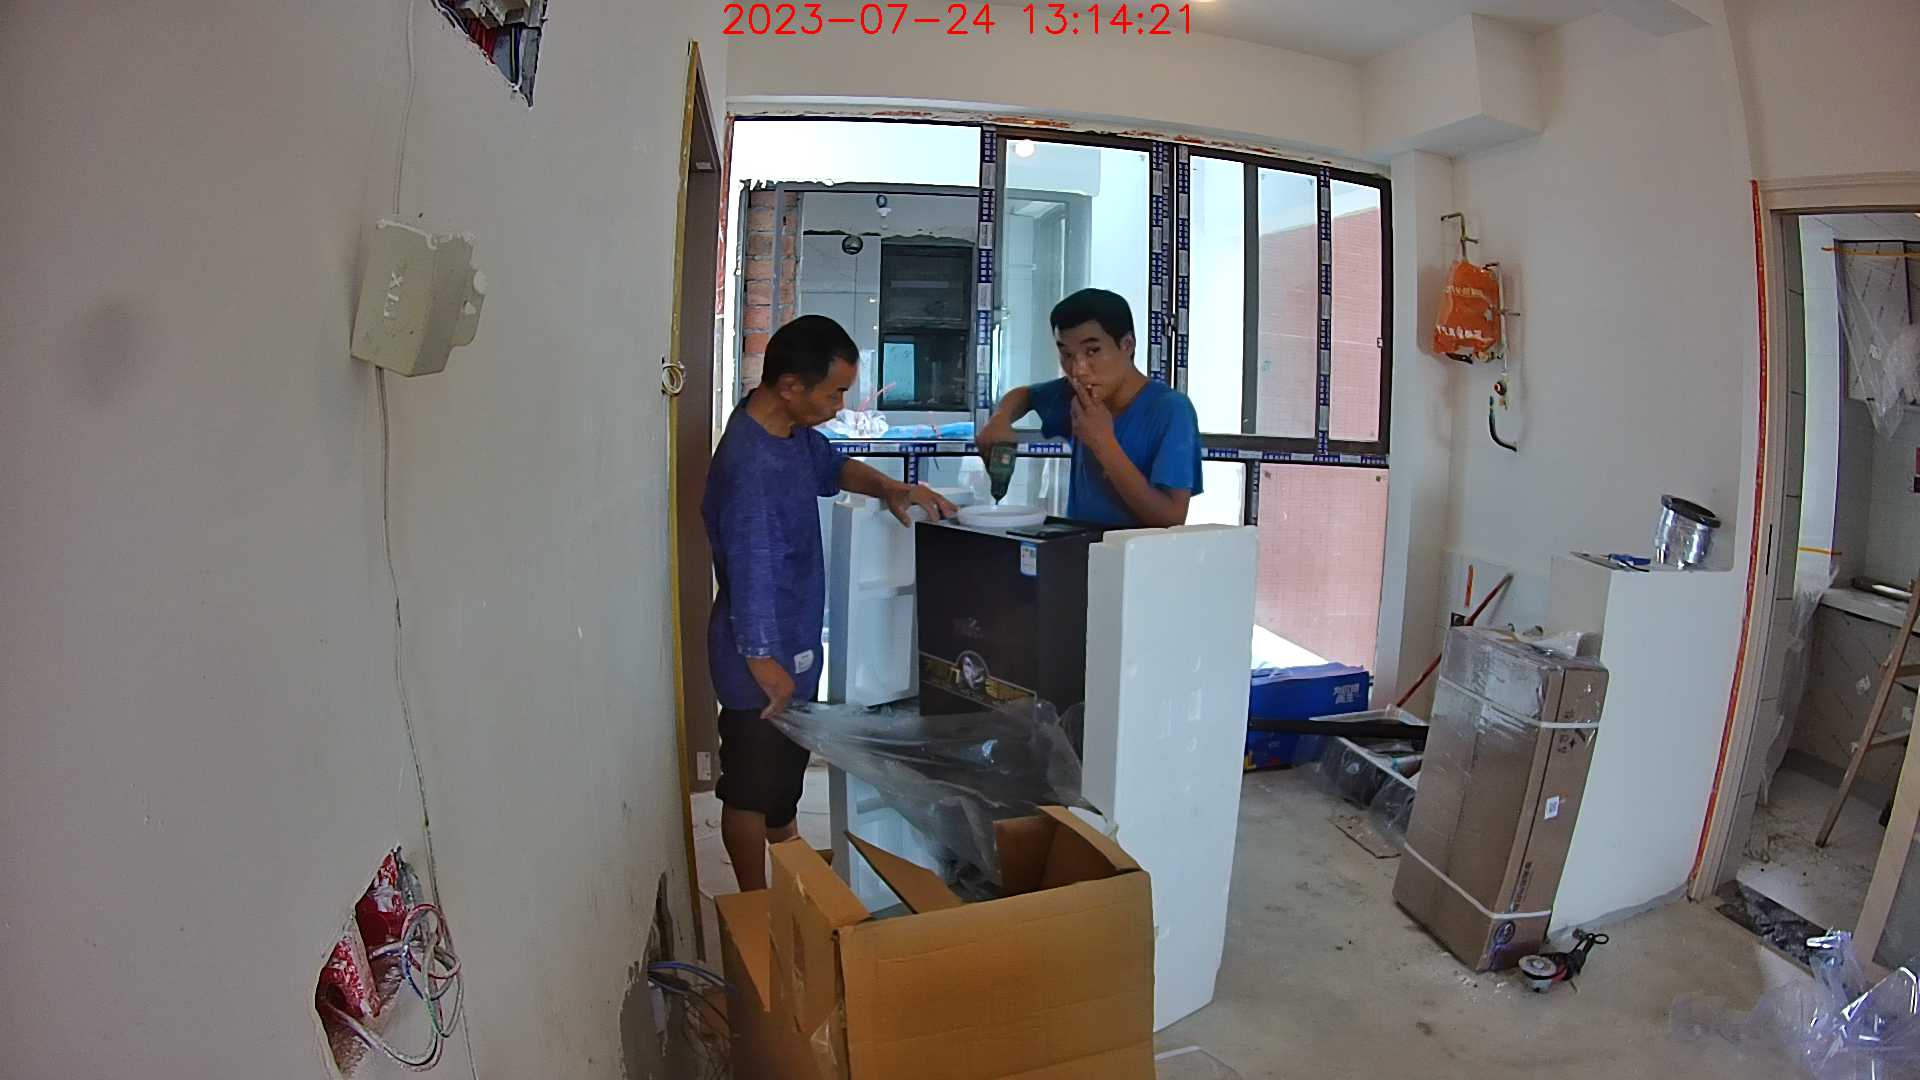people: (702, 315, 915, 888), (981, 292, 1204, 531)
window: (733, 116, 1401, 708)
